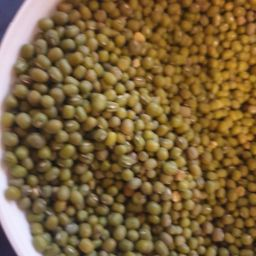Green gram dal(moong): (50, 22, 197, 256), (2, 58, 111, 249), (36, 4, 256, 95), (185, 16, 253, 256)
